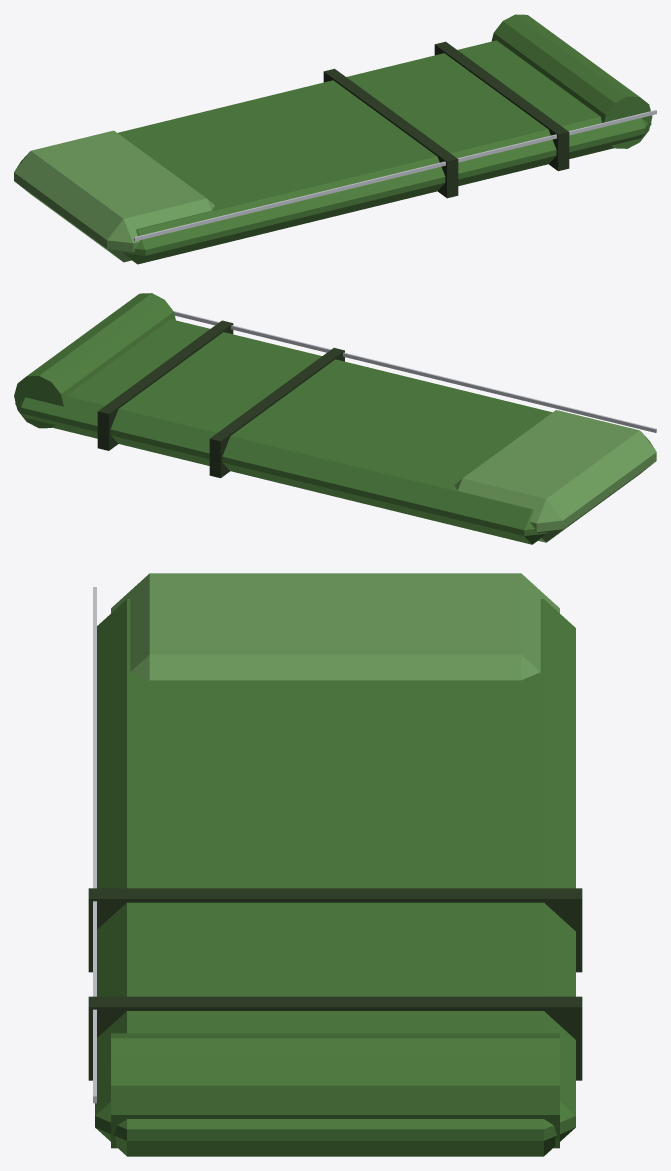
Rendered from sleeping_bag.glb.
3 views of the same model, one above another, from view 1: azimuth 30°, elevation 25°; view 2: azimuth 150°, elevation 25°; view 3: azimuth 270°, elevation 25° (orthographic). The views are drawn at different scales.
Visible parts, largest first — view 1: sleeping_bag; view 2: sleeping_bag; view 3: sleeping_bag.
Part boxes in pixels (x1,y1,x2,y2): sleeping_bag: [14, 14, 656, 264]; sleeping_bag: [14, 293, 656, 544]; sleeping_bag: [88, 573, 582, 1156].
Bounding box in the file's own units: 1.94 × 0.18 × 0.77.
